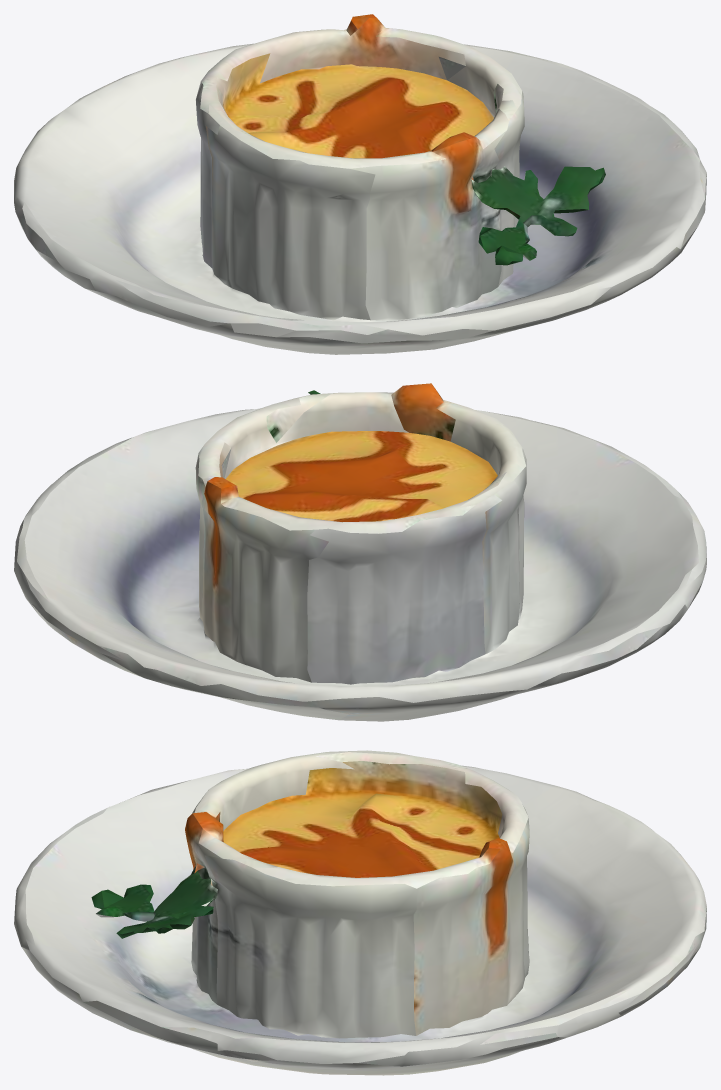
Rendered from duck_custard.glb.
3 views of the same model, one above another, from view 1: azimuth 30°, elevation 25°; view 2: azimuth 150°, elevation 25°; view 3: azimuth 270°, elevation 25° (orthographic).
Parts seen in each view (by area): view 1: duck_custard; view 2: duck_custard; view 3: duck_custard.
Boxes of the visible parts, x1,y1,x2,y2 form: duck_custard: (14,14,706,354); duck_custard: (14,383,706,721); duck_custard: (14,750,706,1075).
Bounding box in the file's own units: 1 × 0.2873 × 0.9972.
Materials: 1 (1 with a texture image).
